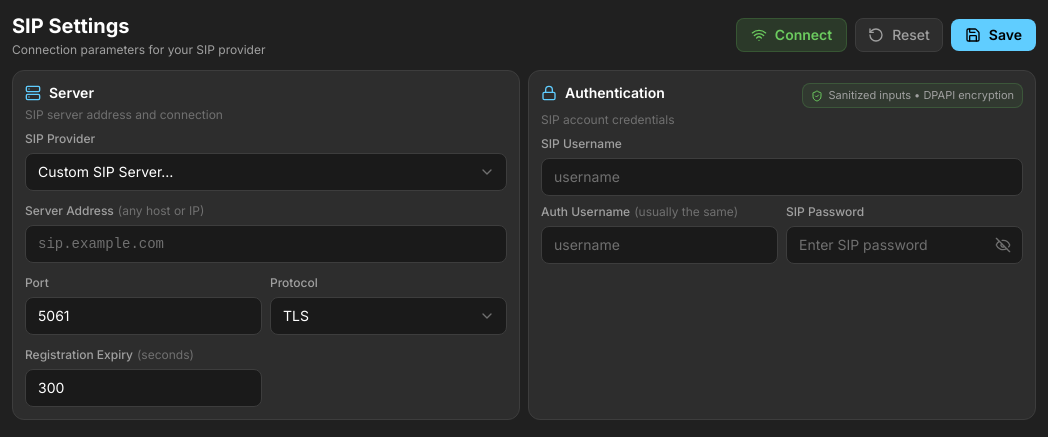
Test: SipSettings › auto-switches to TCP when selecting a VoIP.ms server while TLS is active
Select "Atlanta 1 (atlanta.voip.ms)" in the 1st dropdown at (266, 172), box top-left (25, 153), bottom-right (507, 191)
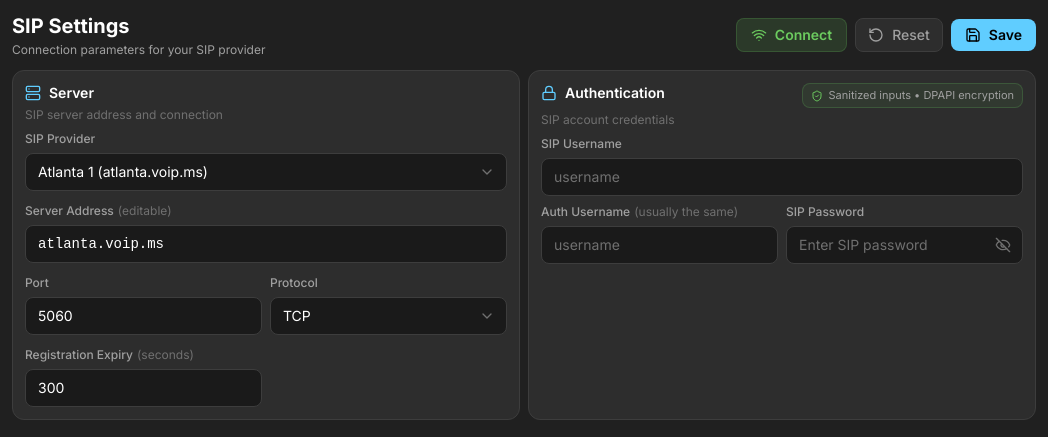
Result: the dropdown below "Protocol" shows "TCP" at top-left (270, 297), bottom-right (507, 335)
Result: the number field showing "5060" below "Port" is shown at top-left (25, 297), bottom-right (262, 335)
